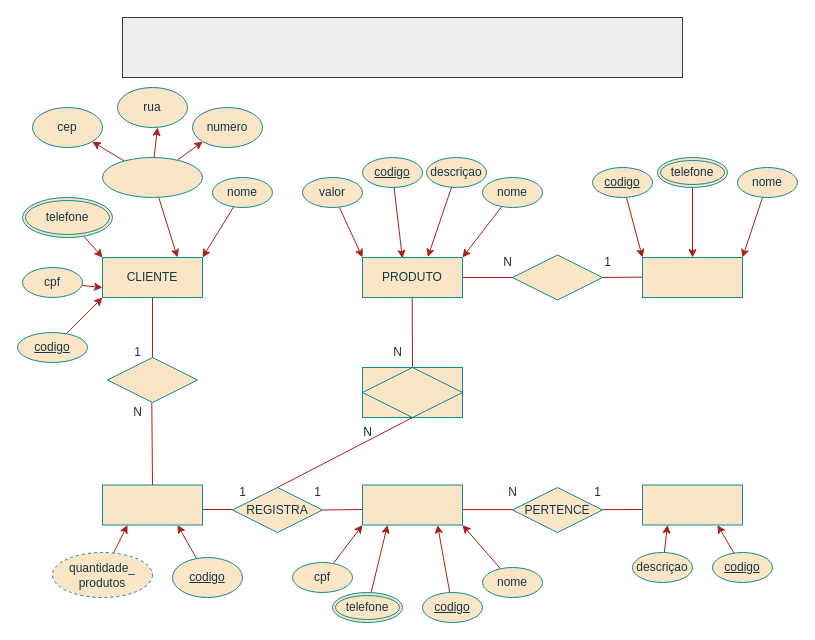
This 815x640 diagram has some shape labels left out. Each missing label, with the centre of its shape:
COMPRA: the point at 152,504
CONTEM: the point at 412,392
DEPARTAMENTO: the point at 692,504
Diagrama Entidade de Relacionamento - DER: the point at 402,47
endereço: the point at 152,177
FORNECE: the point at 557,277
FORNECEDOR: the point at 692,277
FUNCIONÁRIO: the point at 412,504
REALIZA: the point at 152,379
